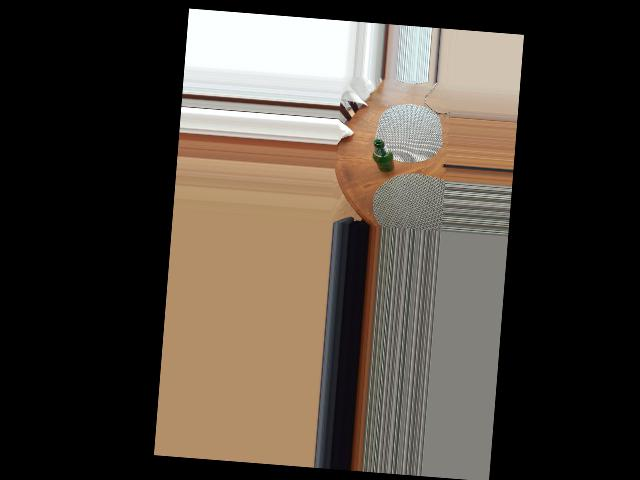beer: (371, 139, 395, 173)
